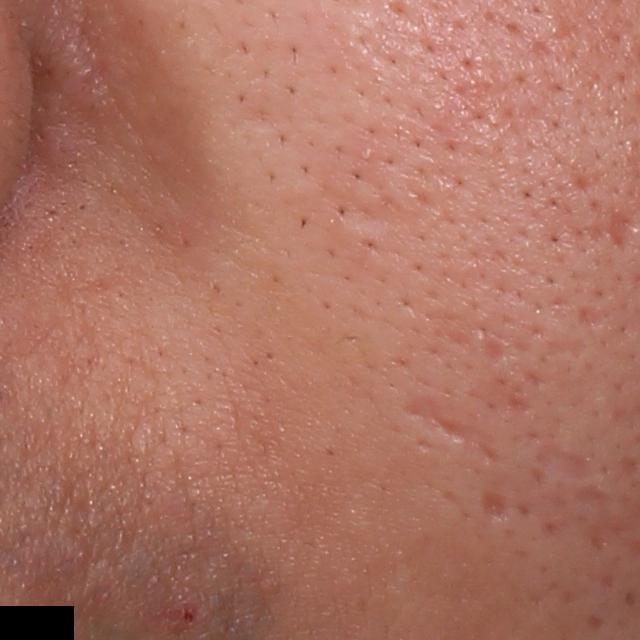atrophic_scar: (407, 389, 476, 444), (539, 443, 605, 481), (544, 336, 593, 363), (477, 485, 508, 521), (482, 333, 514, 366)
